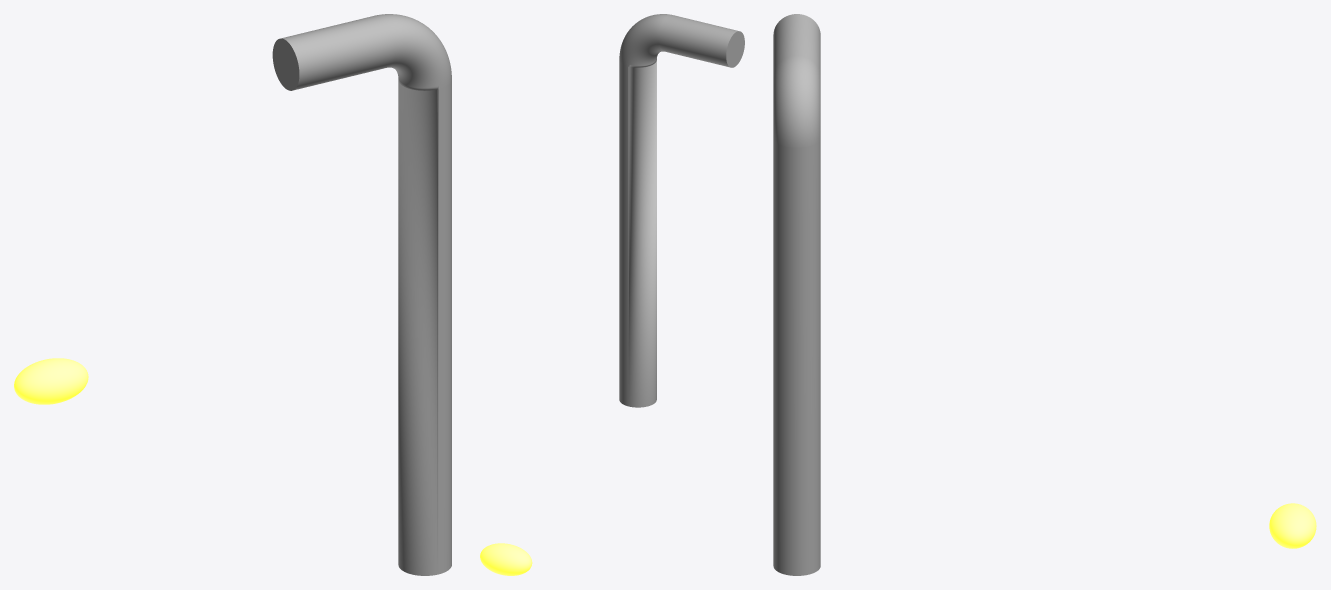
The model's file is lamp-light.glb.
3 views of the same model, side by side, from view 1: azimuth 30°, elevation 25°; view 2: azimuth 150°, elevation 25°; view 3: azimuth 270°, elevation 25° (orthographic). The views are drawn at different scales.
Visible parts, largest first — view 1: lamp, bulb; view 2: lamp, bulb; view 3: lamp, bulb.
Boxes of the visible parts, x1,y1,x2,y2 form: lamp: [272, 14, 451, 575]; bulb: [14, 358, 88, 404]; lamp: [619, 14, 744, 407]; bulb: [480, 543, 532, 575]; lamp: [773, 14, 820, 575]; bulb: [1269, 503, 1316, 548].
Size of the model in its own units: 3.5 by 11.9 by 11.5.
